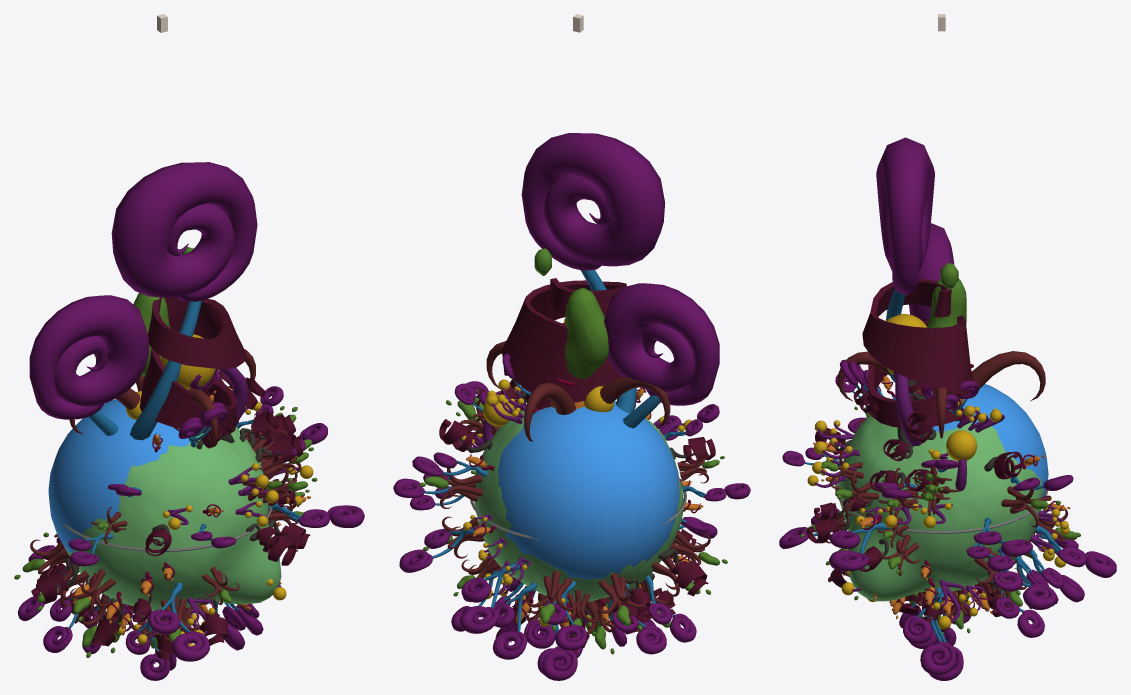
File: game001.glb
3 views of the same model, side by side, from view 1: azimuth 30°, elevation 25°; view 2: azimuth 150°, elevation 25°; view 3: azimuth 270°, elevation 25° (orthographic). The views are drawn at different scales.
Visible parts, largest first — view 1: Tree_Swirl_1, Land, Sea, Tree_Spiral_1, Tree_Spikes_1.004, Tree_Swirl_1.026, Tree_Light_1, Tree_Swirl_1.030, Tree_Swirl_1.009, Tree_Swirl_1.014, Tree_Spikes_1.034, Tree_Spiral_1.010 (+18 smaller); view 2: Tree_Swirl_1, Sea, Tree_Spiral_1, Tree_Spikes_1.004, Land, Tree_Swirl_1.028, Tree_Swirl_1.022, Tree_Swirl_1.037, Tree_Swirl_1.002, Tree_Swirl_1.014, Tree_Light_1, Tree_Swirl_1.025 (+18 smaller); view 3: Land, Tree_Spiral_1, Tree_Swirl_1, Tree_Spikes_1.004, Sea, Tree_Light_1, Tree_Swirl_1.004, Tree_Swirl_1.030, Tree_Swirl_1.028, Tree_Swirl_1.002, Tree_Swirl_1.013, Tree_Swirl_1.037 (+16 smaller).
Part boxes in pixels (box(x1,y1,x2,y2)): Tree_Swirl_1: box(29, 162, 257, 440); Land: box(63, 427, 281, 611); Sea: box(48, 399, 189, 553); Tree_Spiral_1: box(139, 297, 246, 443); Tree_Spikes_1.004: box(69, 247, 255, 448); Tree_Swirl_1.026: box(148, 582, 209, 661); Tree_Light_1: box(126, 334, 248, 422); Tree_Swirl_1.030: box(268, 503, 364, 527); Tree_Swirl_1.009: box(125, 619, 170, 680); Tree_Swirl_1.014: box(43, 585, 89, 652); Tree_Spikes_1.034: box(70, 569, 116, 621); Tree_Spiral_1.010: box(31, 562, 77, 603); Tree_Swirl_1: box(521, 133, 719, 428); Sea: box(497, 401, 679, 580); Tree_Spiral_1: box(502, 278, 626, 410); Tree_Spikes_1.004: box(486, 248, 670, 441); Land: box(474, 410, 683, 602); Tree_Swirl_1.028: box(460, 561, 520, 633); Tree_Swirl_1.022: box(526, 598, 577, 680); Tree_Swirl_1.037: box(493, 582, 537, 659); Tree_Swirl_1.002: box(399, 528, 475, 572); Tree_Swirl_1.014: box(644, 575, 696, 642); Tree_Light_1: box(482, 317, 614, 443); Tree_Swirl_1.025: box(542, 581, 587, 650); Land: box(839, 415, 1043, 601); Tree_Spiral_1: box(862, 278, 972, 448); Tree_Swirl_1: box(876, 137, 954, 321); Tree_Spikes_1.004: box(837, 263, 1045, 438); Sea: box(892, 384, 1048, 496); Tree_Light_1: box(886, 314, 977, 491); Tree_Swirl_1.004: box(903, 588, 956, 675); Tree_Swirl_1.030: box(829, 522, 889, 571); Tree_Swirl_1.028: box(1034, 525, 1116, 577); Tree_Swirl_1.002: box(993, 547, 1056, 609); Tree_Swirl_1.013: box(995, 572, 1044, 637); Tree_Swirl_1.037: box(1029, 549, 1084, 602).
Bounding box in the file's own units: 6.29 × 13.59 × 6.57.
247 materials, 200 textured.
